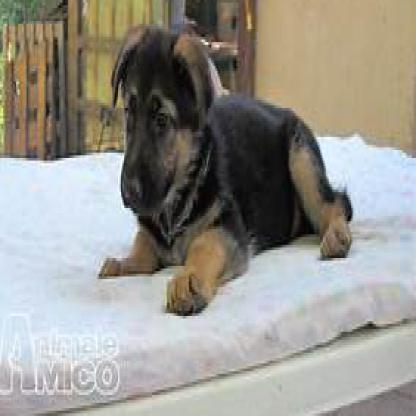dog: (99, 26, 352, 316)
